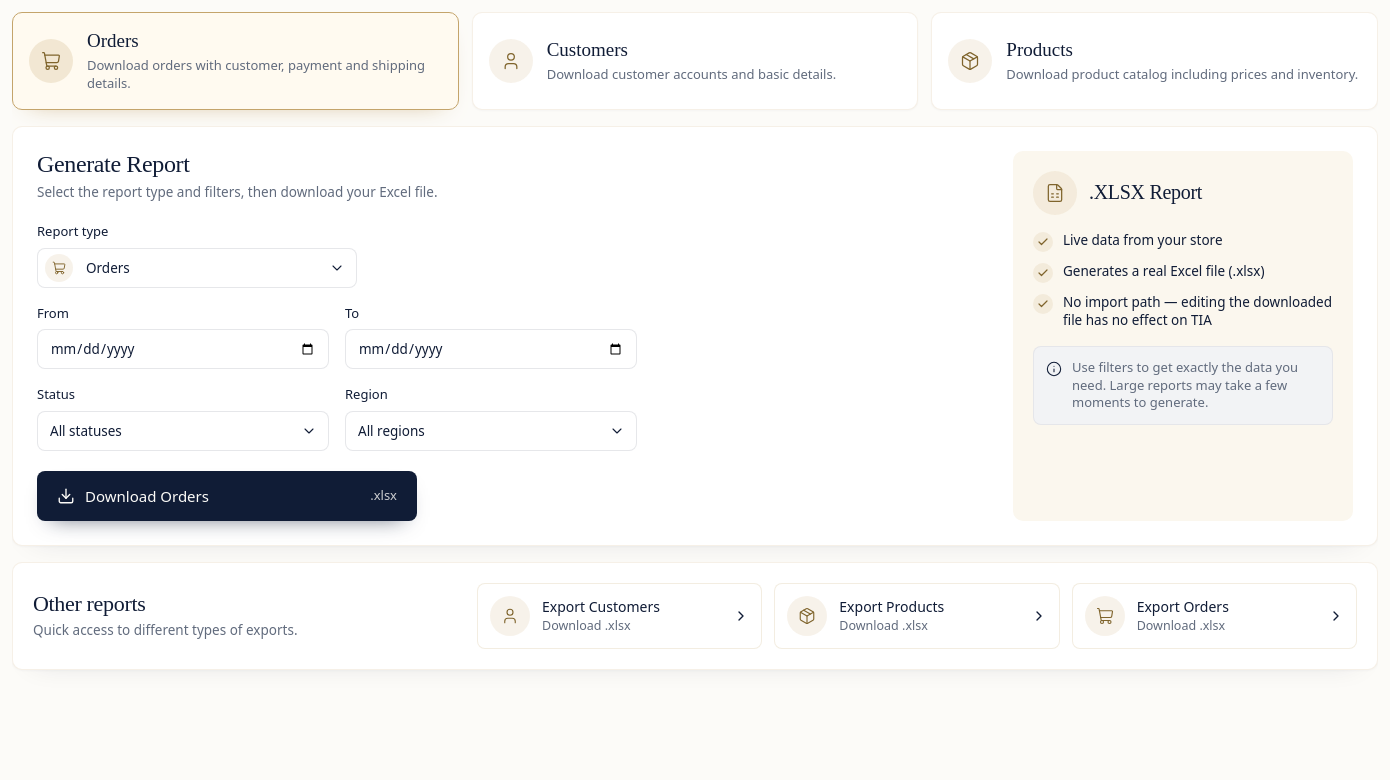
Scenario: loading and error states › shows the server's message when the export is rejected
Step 1. Click the button with test id "download-button" → point(147, 496), box [37,471,417,521]
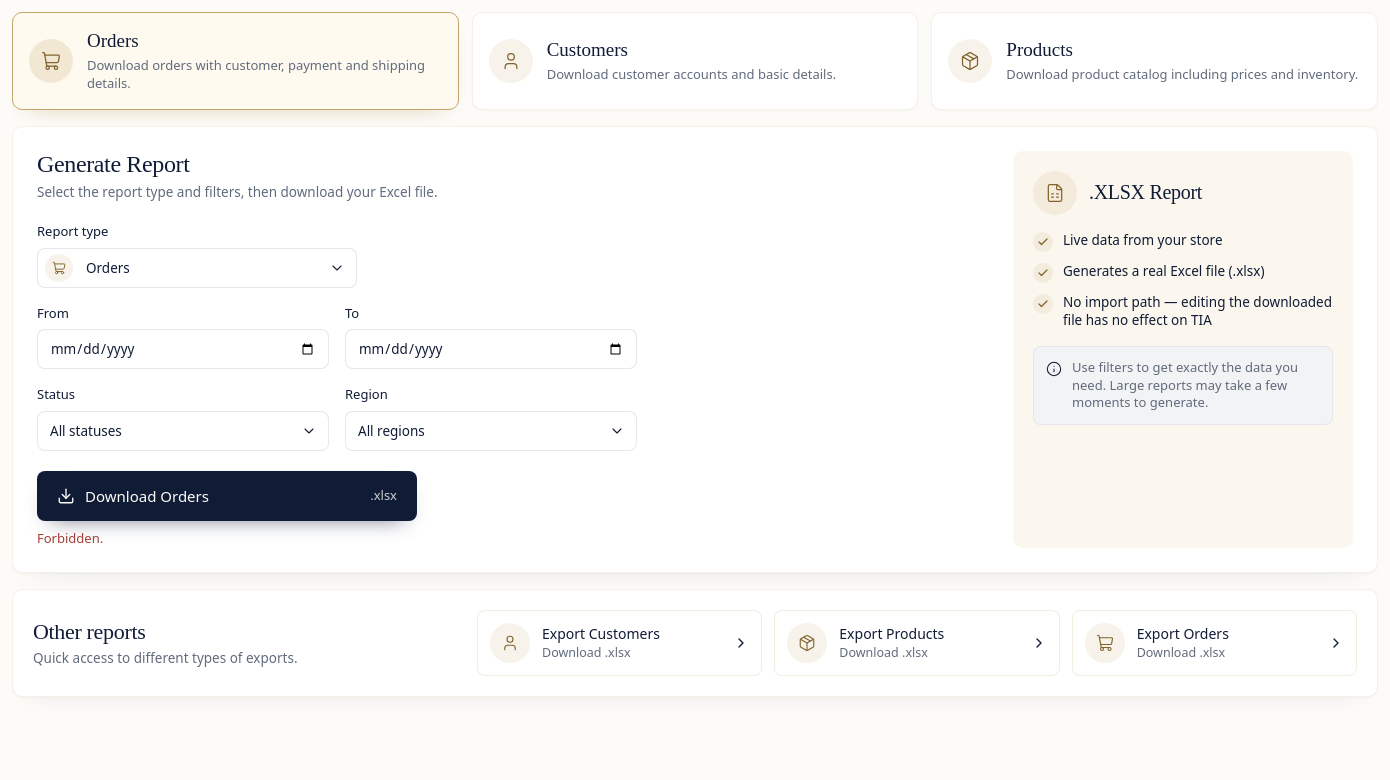
Check: the message reads "Forbidden.", box [37,529,103,547]
